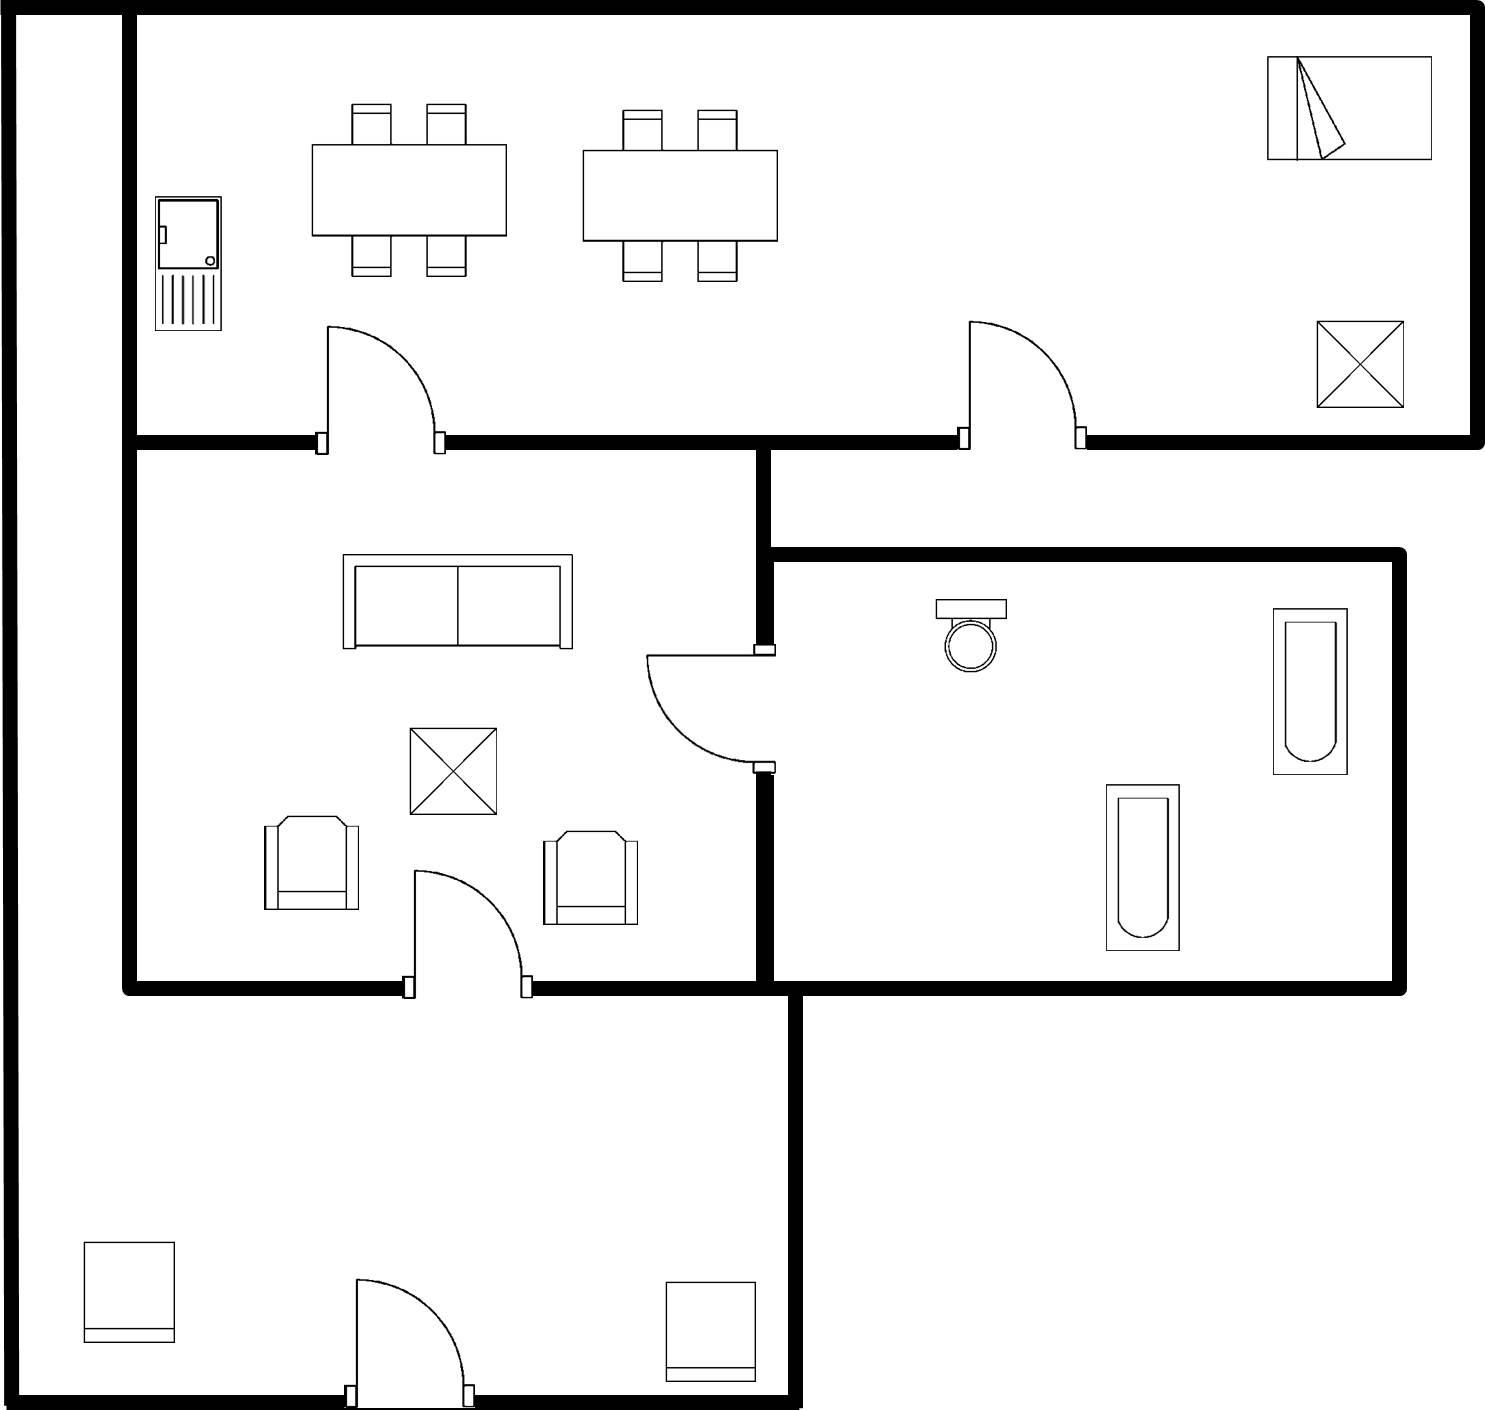bed: (1257, 44, 1439, 174)
dining_table: (295, 91, 521, 293), (572, 99, 790, 290)
sink: (143, 186, 234, 342)
sofa: (331, 545, 582, 663)
toilet: (925, 587, 1013, 681)
tub: (1089, 771, 1191, 961), (1257, 598, 1358, 786)
